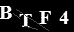4: (58, 10, 70, 25)
B: (1, 5, 12, 20)
F: (37, 10, 53, 25)
T: (17, 12, 33, 29)
